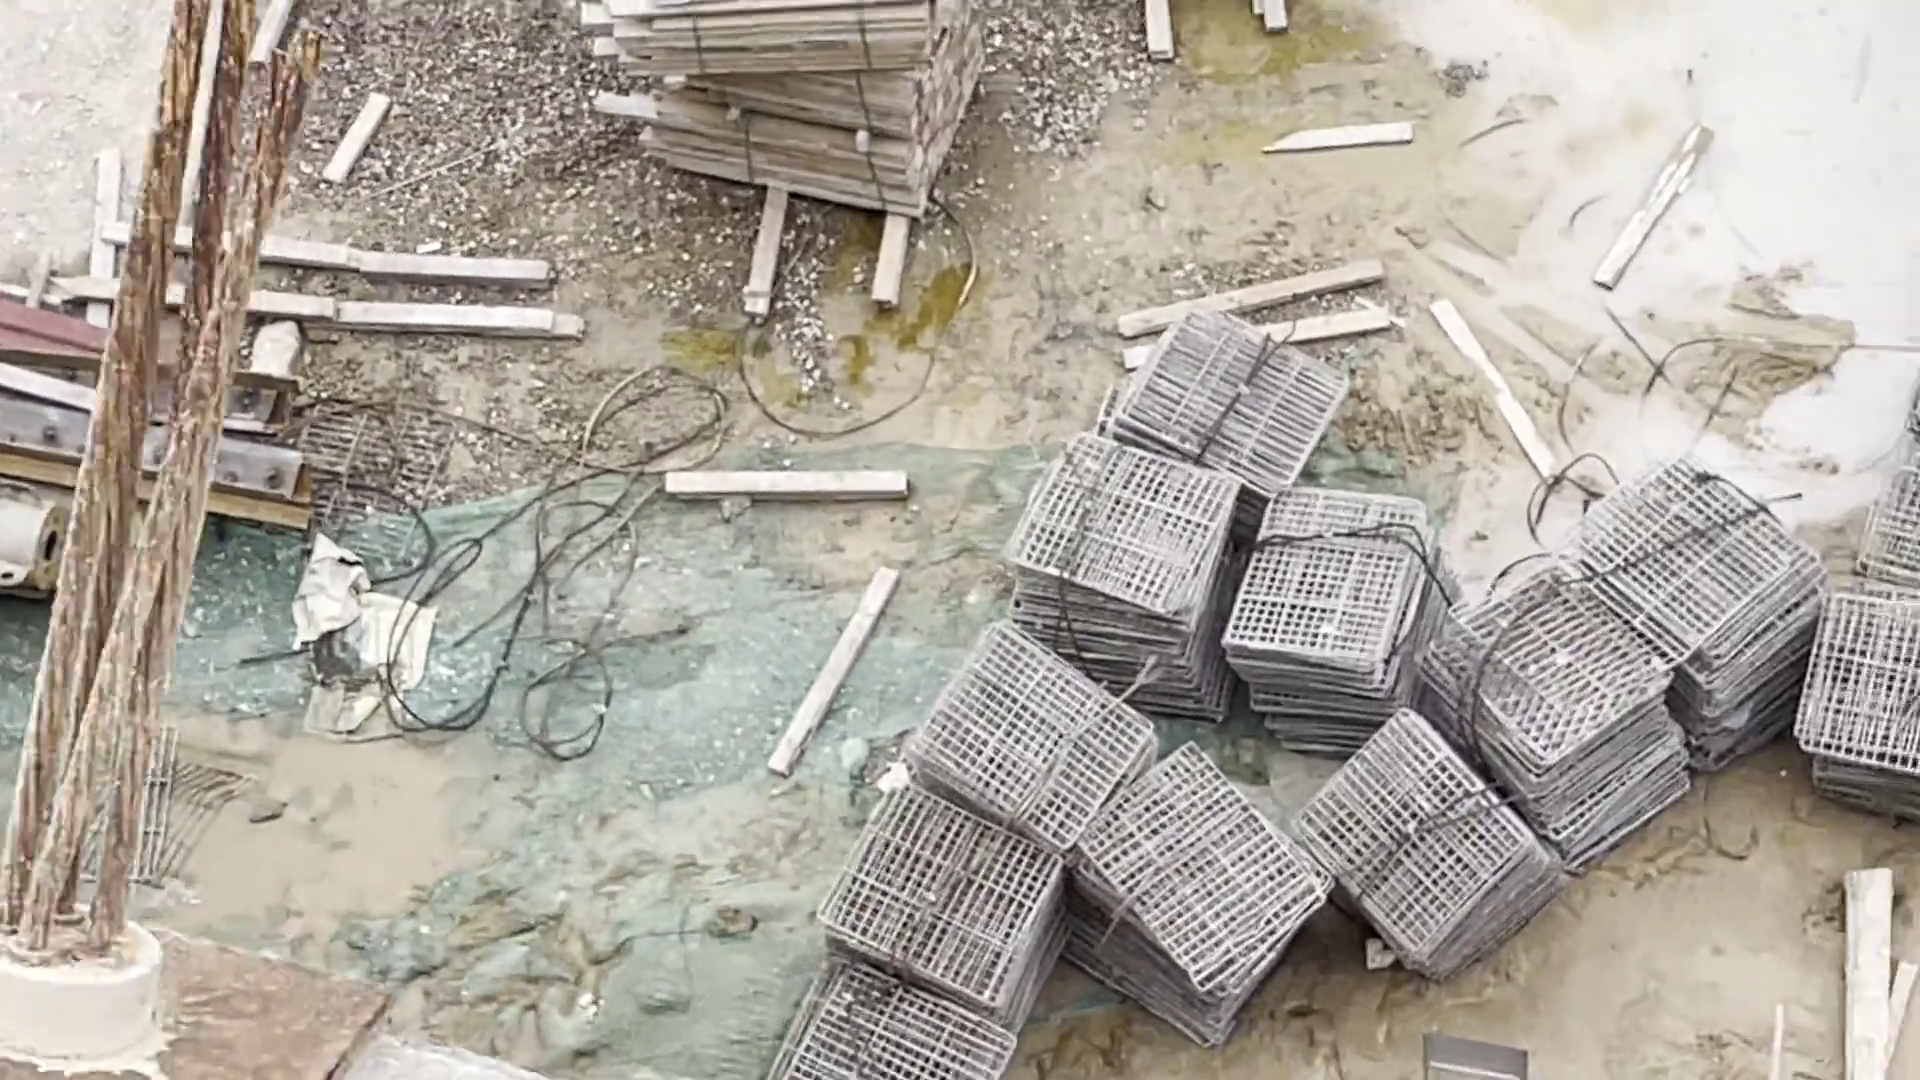wood: (585, 1, 993, 218)
